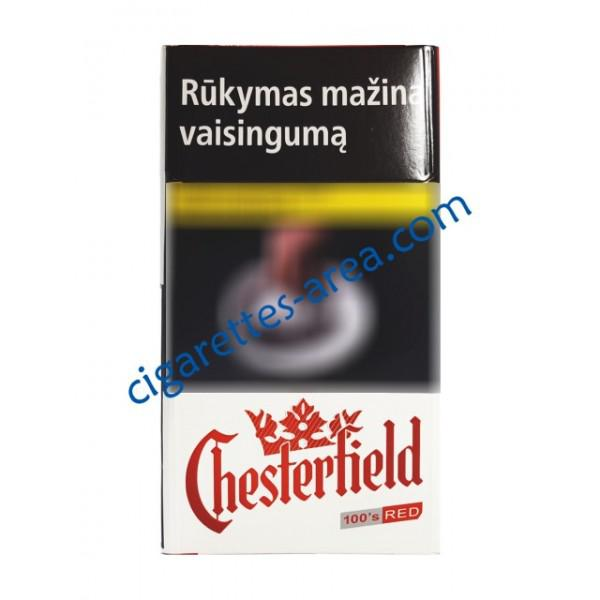chesterfield_red: (160, 44, 442, 561)
